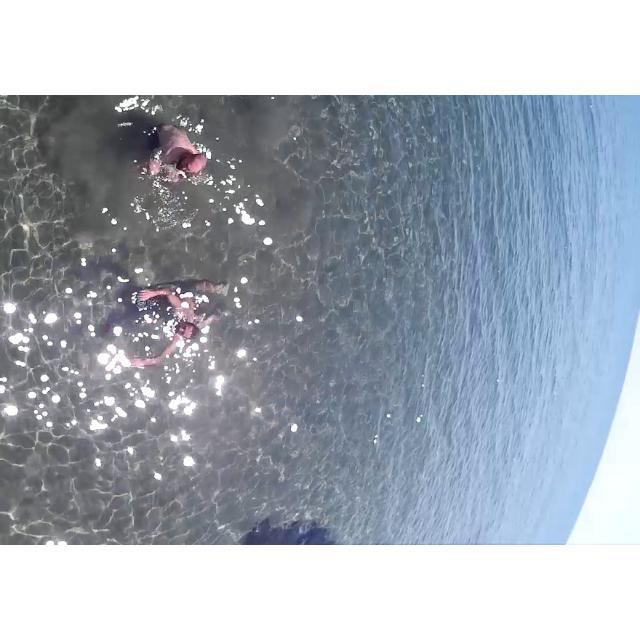human: (121, 266, 230, 374), (133, 112, 223, 205)
